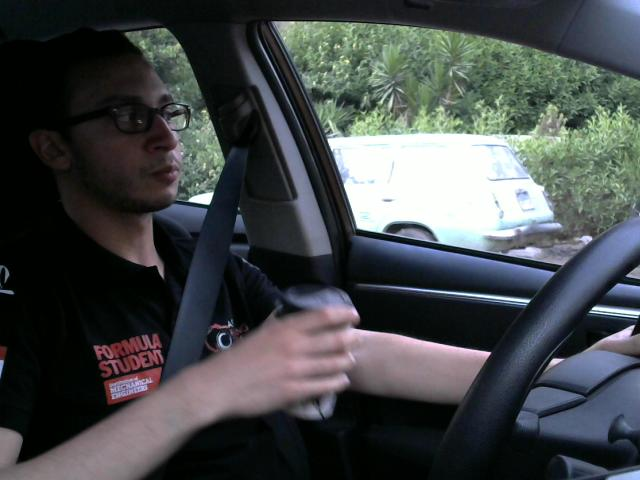Drinking: (265, 275, 354, 424)
